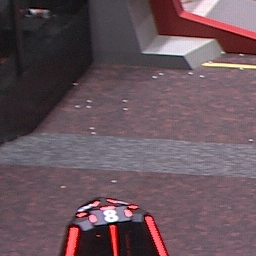Red: (88, 205, 134, 224)
